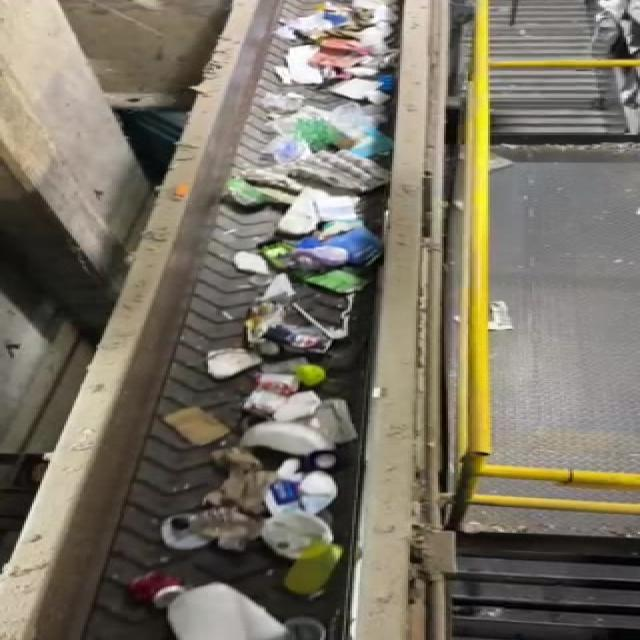metal: (122, 558, 192, 607)
paper: (160, 464, 261, 558), (146, 406, 232, 455)
pp: (258, 516, 358, 600), (236, 420, 346, 462), (265, 466, 349, 516)
